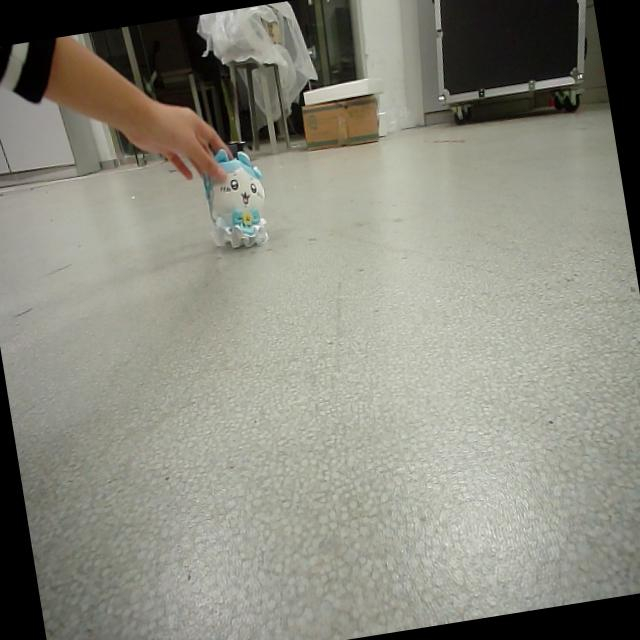xiaoba: (194, 134, 272, 252)
